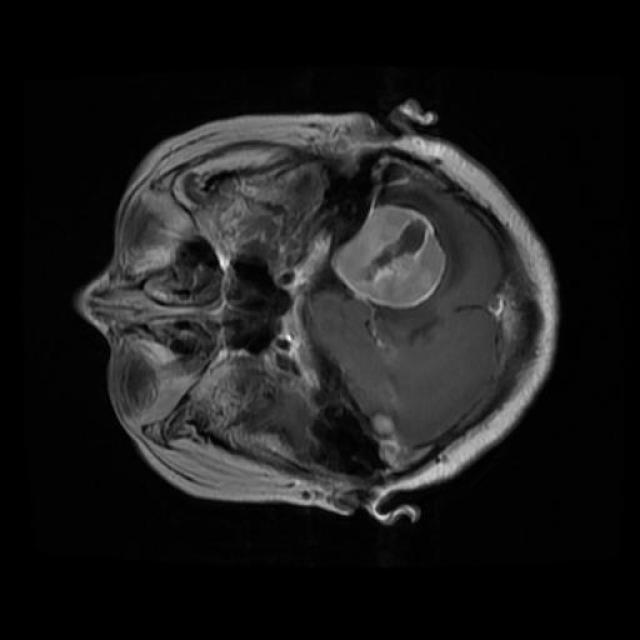Meningioma: (333, 200, 446, 309)
